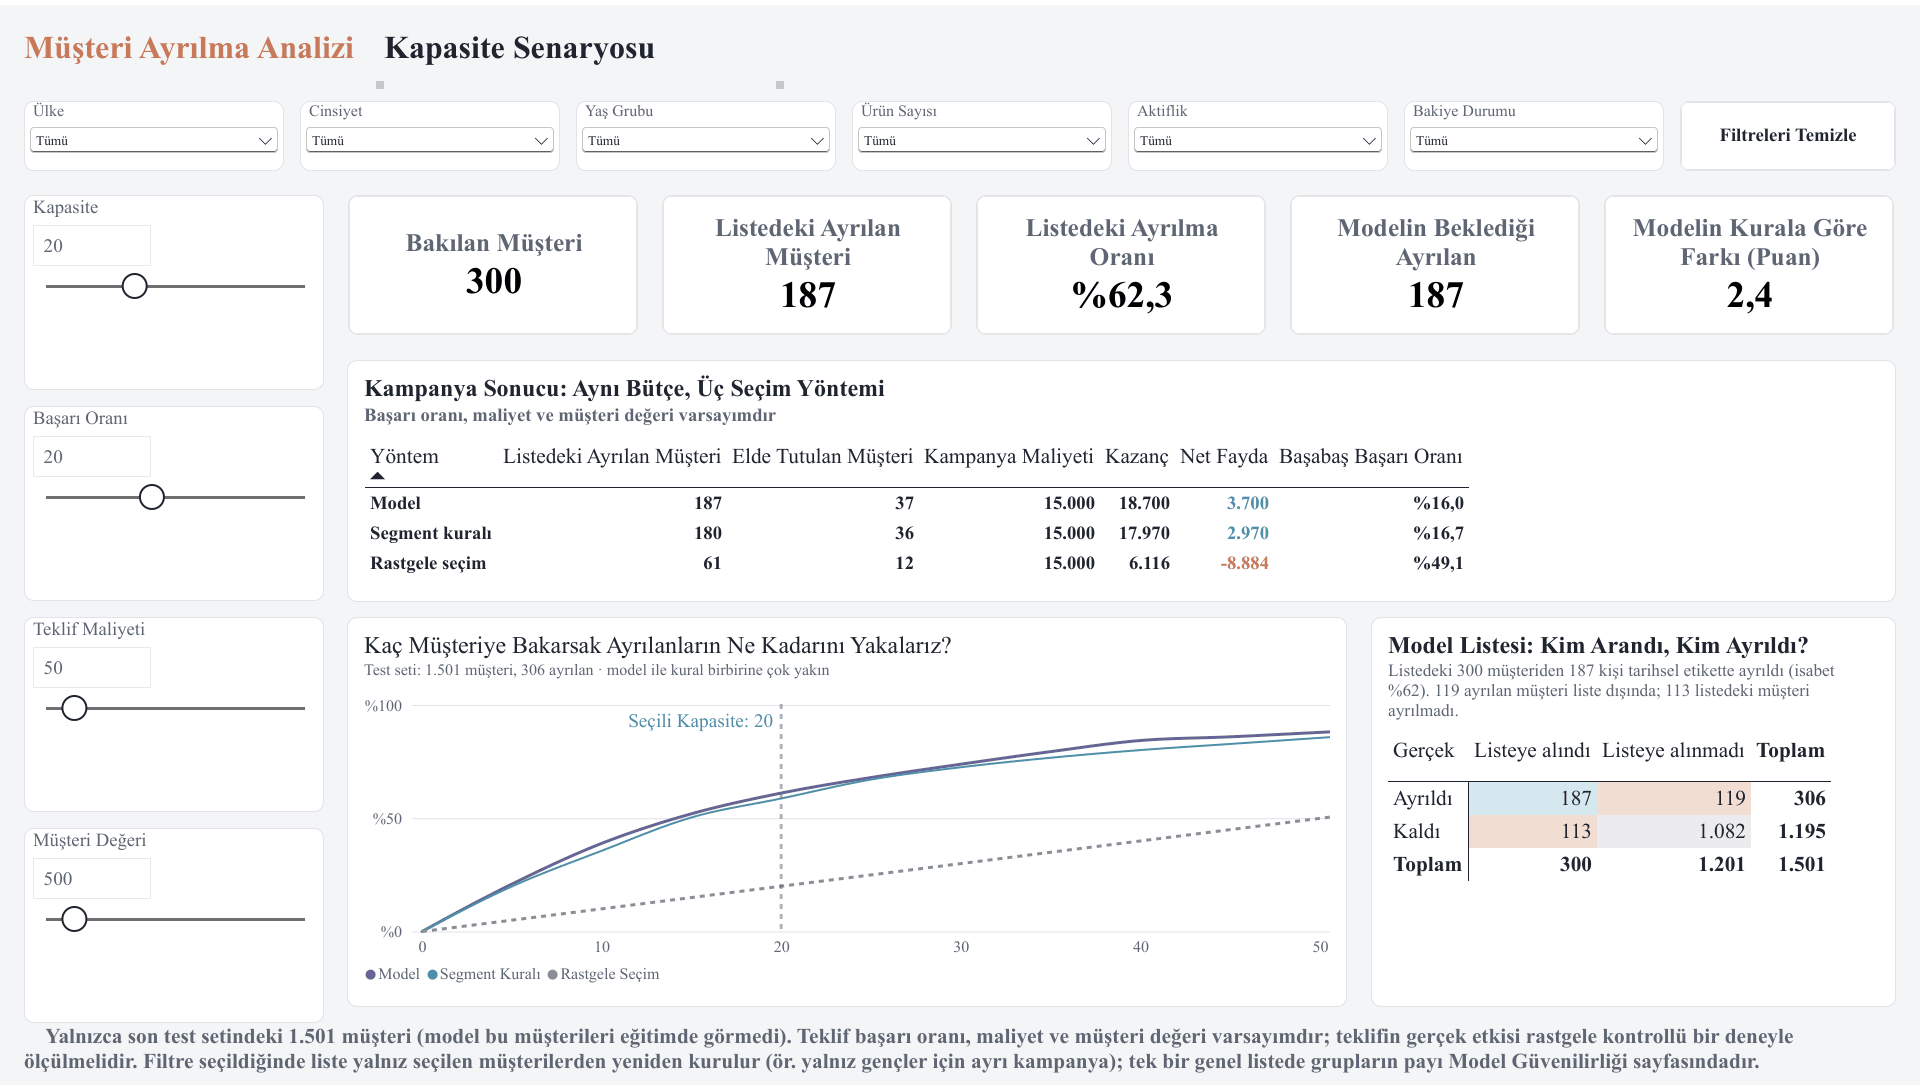

The dashboard page shown, as its layout file describes it:
{"tool":"powerbi","page":{"name":"Kapasite Senaryosu","canvas":[1920,1080],"ordinal":2},"visuals":[{"type":"textbox","title":"Müşteri Ayrılma Analizi","box":[24,24,360,60],"z":0},{"type":"textbox","title":"Kapasite Senaryosu","box":[384,24,400,60],"z":1000},{"type":"slicer","fields":{"Values":["Müşteriler.Ülke"]},"box":[24,96,260,70],"z":2000},{"type":"slicer","fields":{"Values":["Müşteriler.Cinsiyet"]},"box":[300,96,260,70],"z":3000},{"type":"slicer","fields":{"Values":["Müşteriler.Yaş Grubu"]},"box":[576,96,260,70],"z":4000},{"type":"slicer","fields":{"Values":["Müşteriler.Ürün Sayısı"]},"box":[852,96,260,70],"z":5000},{"type":"slicer","fields":{"Values":["Müşteriler.Aktiflik"]},"box":[1128,96,260,70],"z":6000},{"type":"slicer","fields":{"Values":["Müşteriler.Bakiye Durumu"]},"box":[1404,96,260,70],"z":7000},{"type":"actionButton","box":[1680,96,216,70],"z":8000},{"type":"textbox","box":[23.5,1018.8,1873,59.7],"z":9000},{"type":"slicer","fields":{"Values":["Kapasite.Kapasite"]},"box":[24,190,300,195],"z":10000},{"type":"slicer","fields":{"Values":["Başarı Oranı.Başarı Oranı"]},"box":[24,401,300,195],"z":11000},{"type":"slicer","fields":{"Values":["Teklif Maliyeti.Teklif Maliyeti"]},"box":[24,612,300,195],"z":12000},{"type":"slicer","fields":{"Values":["Müşteri Değeri.Müşteri Değeri"]},"box":[24,823,300,195],"z":13000},{"type":"cardVisual","fields":{"Data":["Test Skorları.Bakılan Müşteri"]},"box":[348,190,290,140],"z":14000},{"type":"cardVisual","fields":{"Data":["Test Skorları.Model Yakalanan"]},"box":[662,190,290,140],"z":15000},{"type":"cardVisual","fields":{"Data":["Test Skorları.Model İsabet"]},"box":[976,190,290,140],"z":16000},{"type":"cardVisual","fields":{"Data":["Test Skorları.Beklenen Ayrılan"]},"box":[1290,190,290,140],"z":17000},{"type":"tableEx","title":"Kampanya Sonucu: Aynı Bütçe, Üç Seçim Yöntemi","fields":{"Values":["Yöntem.Yöntem","Test Skorları.Yakalanan Ayrılan","Test Skorları.Tutulan Müşteri","Test Skorları.Kampanya Maliyeti","Test Skorları.Kazanç","Test Skorları.Net Fayda","Test Skorları.Başabaş Başarı Oranı"]},"box":[347.5,354.7,1549.1,242.5],"z":18000},{"type":"lineChart","title":"Kaç Müşteriye Bakarsak Ayrılanların Ne Kadarını Yakalarız?","fields":{"Category":["Kapasite Ekseni.Kapasite"],"Y":["Test Skorları.Model Yakalanan Payı","Test Skorları.Kural Yakalanan Payı","Test Skorları.Rastgele Yakalanan Payı"]},"box":[347.5,611.7,1000,390],"z":19000},{"type":"cardVisual","fields":{"Data":["Başarı Oranı.Model Kural Farkı"]},"box":[1604,190,290,140],"z":20000},{"type":"pivotTable","title":"Model Listesi: Kim Arandı, Kim Ayrıldı?","fields":{"Columns":["Matris Liste.Liste"],"Rows":["Matris Gerçek.Gerçek"],"Values":["Test Skorları.Matris Değeri"]},"box":[1371,612,525,390],"z":21000}]}

Visuals, with their boxes in screenshot pixels (x1, y1, x2, y2), scaled from the page's 1920x1080 canvas onto the 1920x1090 screenshot:
"Müşteri Ayrılma Analizi" textbox: l=24, t=24, r=384, b=85
"Kapasite Senaryosu" textbox: l=384, t=24, r=784, b=85
slicer - Müşteriler.Ülke: l=24, t=97, r=284, b=168
slicer - Müşteriler.Cinsiyet: l=300, t=97, r=560, b=168
slicer - Müşteriler.Yaş Grubu: l=576, t=97, r=836, b=168
slicer - Müşteriler.Ürün Sayısı: l=852, t=97, r=1112, b=168
slicer - Müşteriler.Aktiflik: l=1128, t=97, r=1388, b=168
slicer - Müşteriler.Bakiye Durumu: l=1404, t=97, r=1664, b=168
actionButton: l=1680, t=97, r=1896, b=168
textbox: l=24, t=1028, r=1896, b=1088
slicer - Kapasite.Kapasite: l=24, t=192, r=324, b=389
slicer - Başarı Oranı.Başarı Oranı: l=24, t=405, r=324, b=602
slicer - Teklif Maliyeti.Teklif Maliyeti: l=24, t=618, r=324, b=814
slicer - Müşteri Değeri.Müşteri Değeri: l=24, t=831, r=324, b=1027
cardVisual - Test Skorları.Bakılan Müşteri: l=348, t=192, r=638, b=333
cardVisual - Test Skorları.Model Yakalanan: l=662, t=192, r=952, b=333
cardVisual - Test Skorları.Model İsabet: l=976, t=192, r=1266, b=333
cardVisual - Test Skorları.Beklenen Ayrılan: l=1290, t=192, r=1580, b=333
"Kampanya Sonucu: Aynı Bütçe, Üç Seçim Yöntemi" tableEx: l=348, t=358, r=1897, b=603
"Kaç Müşteriye Bakarsak Ayrılanların Ne Kadarını Yakalarız?" lineChart: l=348, t=617, r=1348, b=1011
cardVisual - Başarı Oranı.Model Kural Farkı: l=1604, t=192, r=1894, b=333
"Model Listesi: Kim Arandı, Kim Ayrıldı?" pivotTable: l=1371, t=618, r=1896, b=1011
